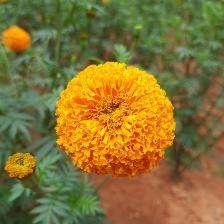marigold: (54, 59, 179, 183)
